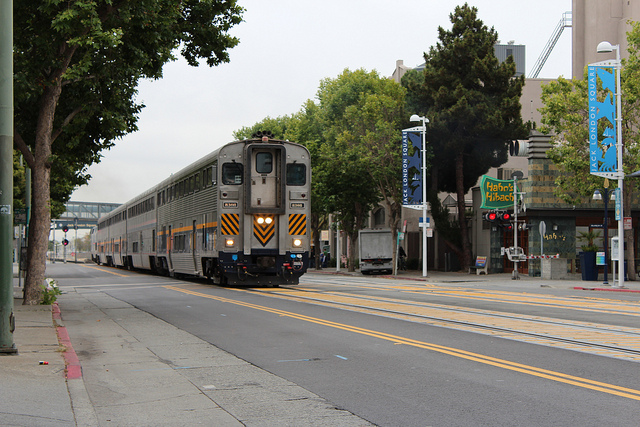Traffic light: (481, 210, 515, 229)
Train: (133, 138, 313, 286)
